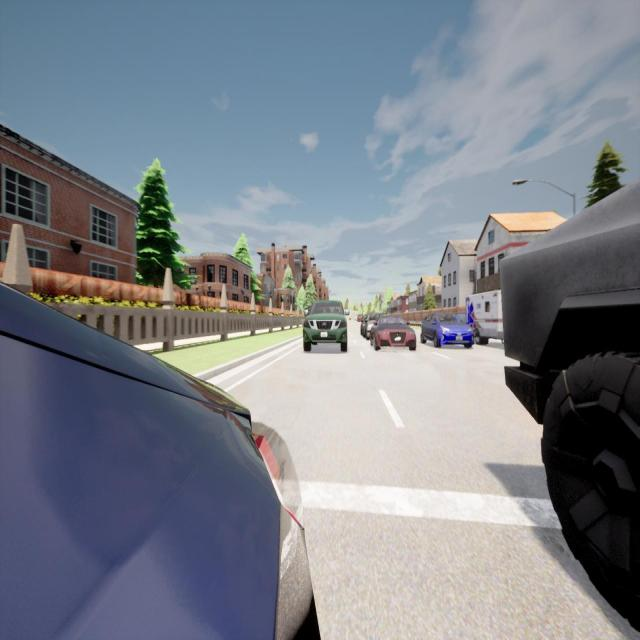Vehicle: (0, 283, 316, 640), (502, 180, 640, 630), (302, 301, 348, 357), (466, 289, 507, 347), (421, 314, 473, 349), (371, 316, 418, 354), (360, 312, 381, 339)
